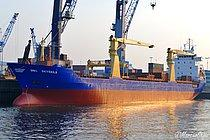Ship: (5, 29, 208, 111)
